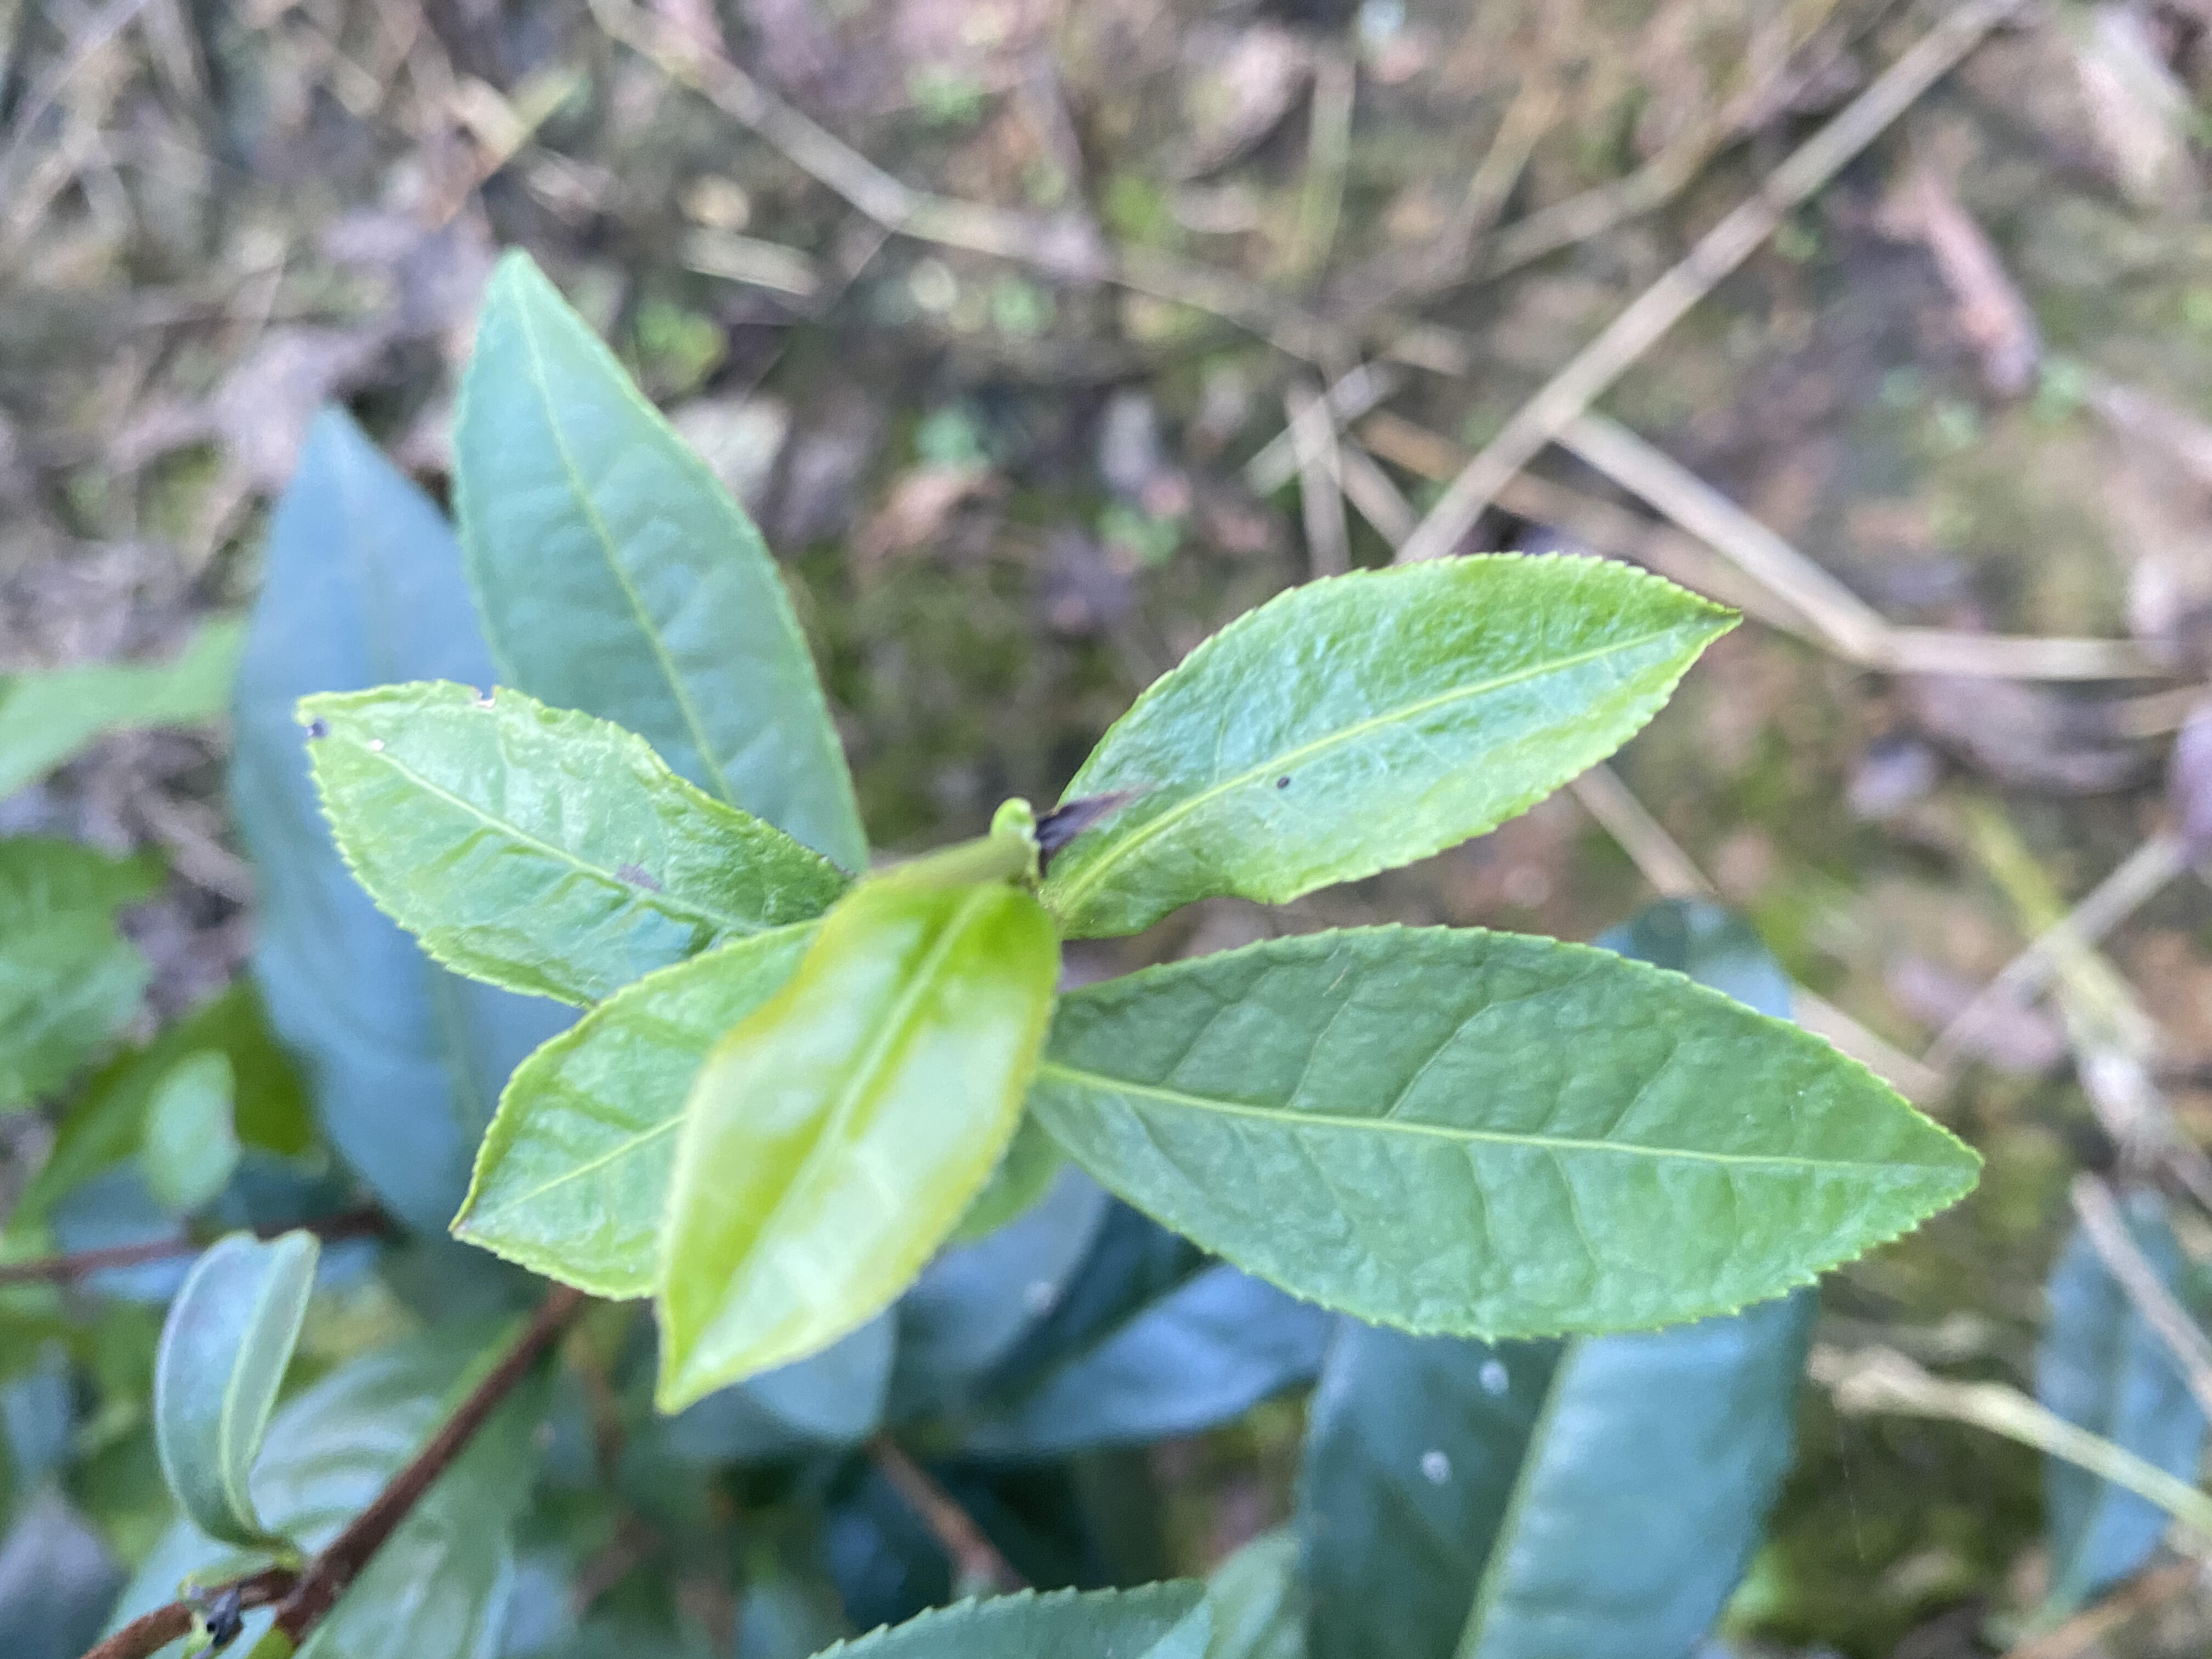healthy: (1035, 922, 1984, 1342), (651, 875, 1062, 1422)
tanju_low: (289, 676, 841, 1000)
